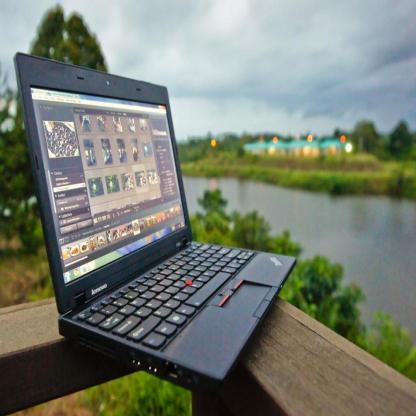board: (16, 52, 304, 391)
